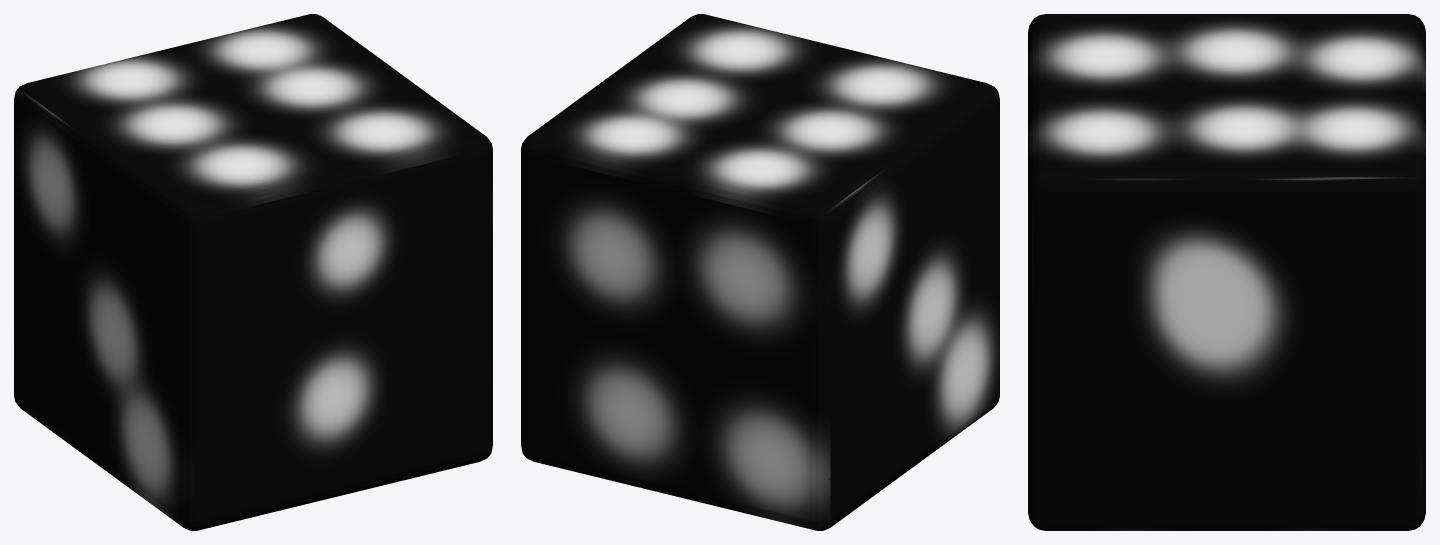
Rendered from dice.obj.
3 views of the same model, side by side, from view 1: azimuth 30°, elevation 25°; view 2: azimuth 150°, elevation 25°; view 3: azimuth 270°, elevation 25° (orthographic). The views are drawn at different scales.
Visible parts, largest first — view 1: Cube; view 2: Cube; view 3: Cube.
Boxes of the visible parts, x1,y1,x2,y2 form: Cube: (14,14,492,530); Cube: (521,14,999,530); Cube: (1028,14,1425,530).
Bounding box in the file's own units: 2 × 2 × 2.
Materials: 1 (1 with a texture image).
